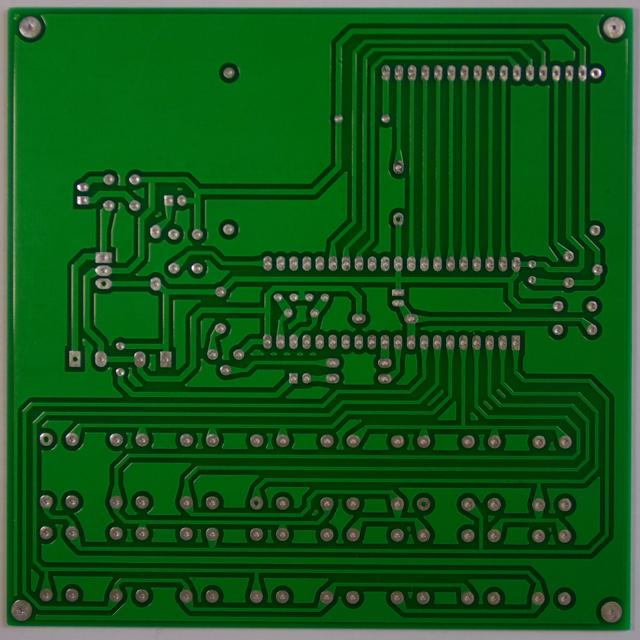missing_hole: (65, 347, 83, 370), (37, 432, 56, 448), (414, 496, 431, 513), (248, 494, 264, 512), (95, 276, 112, 292), (391, 210, 405, 226)
